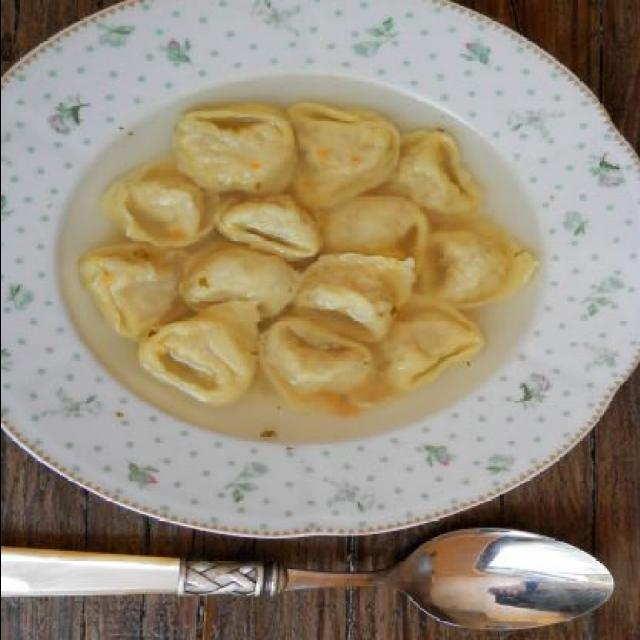Tortellini in broth: (92, 104, 526, 444)
